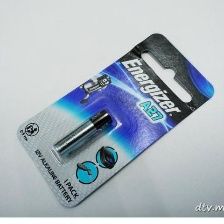battery: (49, 106, 114, 159)
book: (14, 31, 216, 212)
